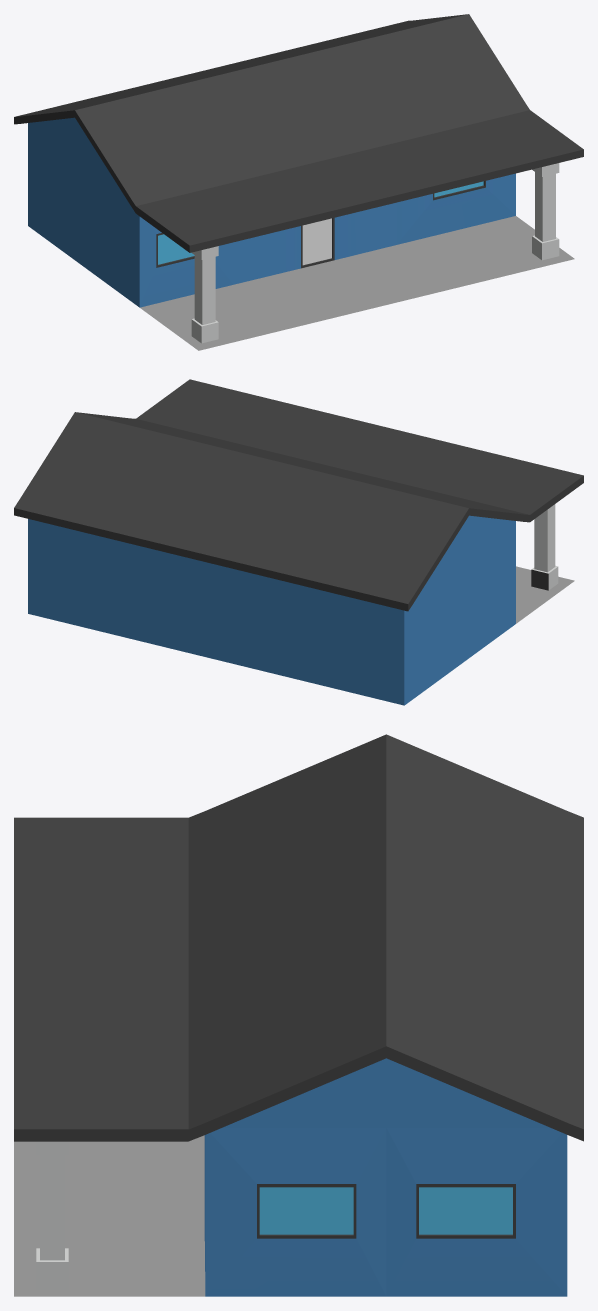
Rendered from House4.fbx.
3 renders of one model, top to bottom at view 1: azimuth 30°, elevation 25°; view 2: azimuth 150°, elevation 25°; view 3: azimuth 270°, elevation 25°, orthographic. The views are drawn at different scales.
Parts seen in each view (by area): view 1: House4; view 2: House4; view 3: House4.
Part boxes in pixels (x1=…): House4: x1=14, y1=14, x2=583, y2=350; House4: x1=14, y1=379, x2=583, y2=705; House4: x1=14, y1=734, x2=583, y2=1296.
Size of the model in its own units: 1389 by 538 by 1073.
